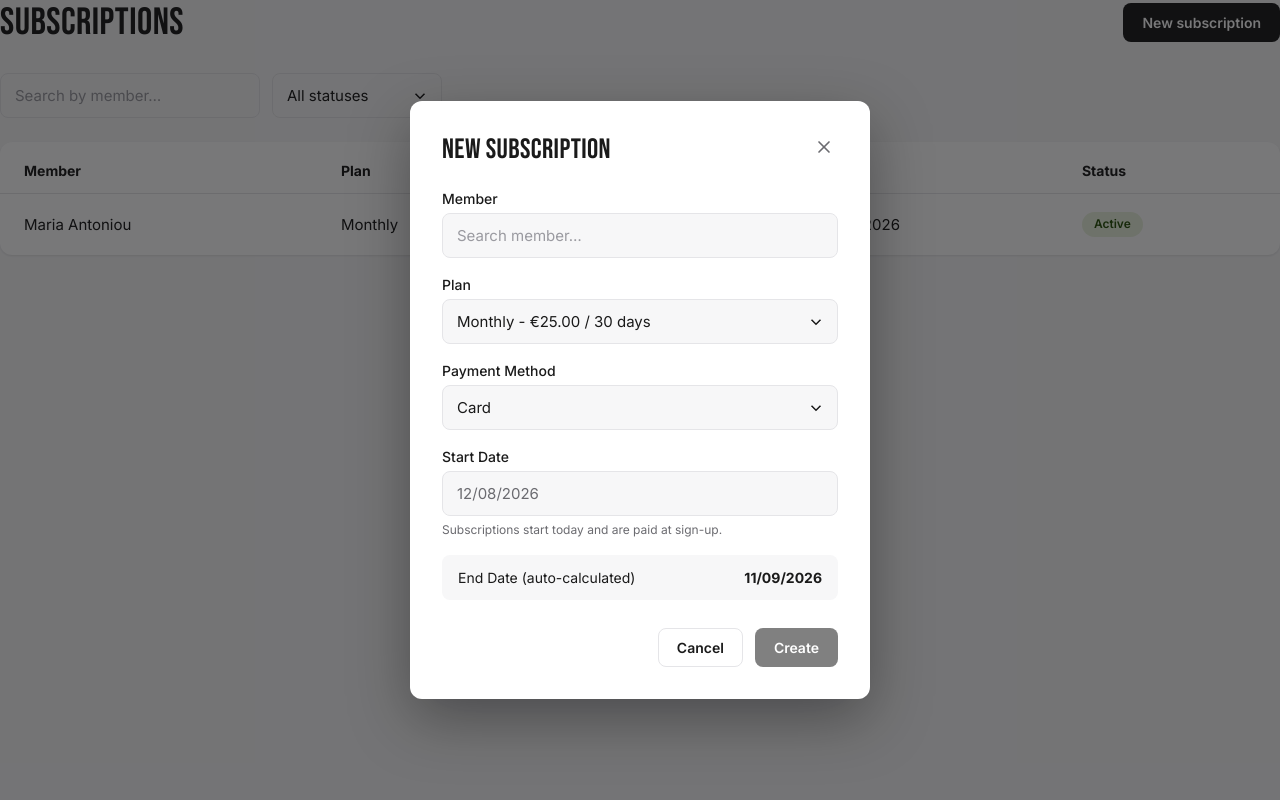
Test: New Subscription flow › creates a subscription for a member with no active plan
This screenshot has width=1280, height=800.
Step 1. Type "Nikos" into the dropdown labelled "Member" → x=640, y=236, box [442,213,838,258]
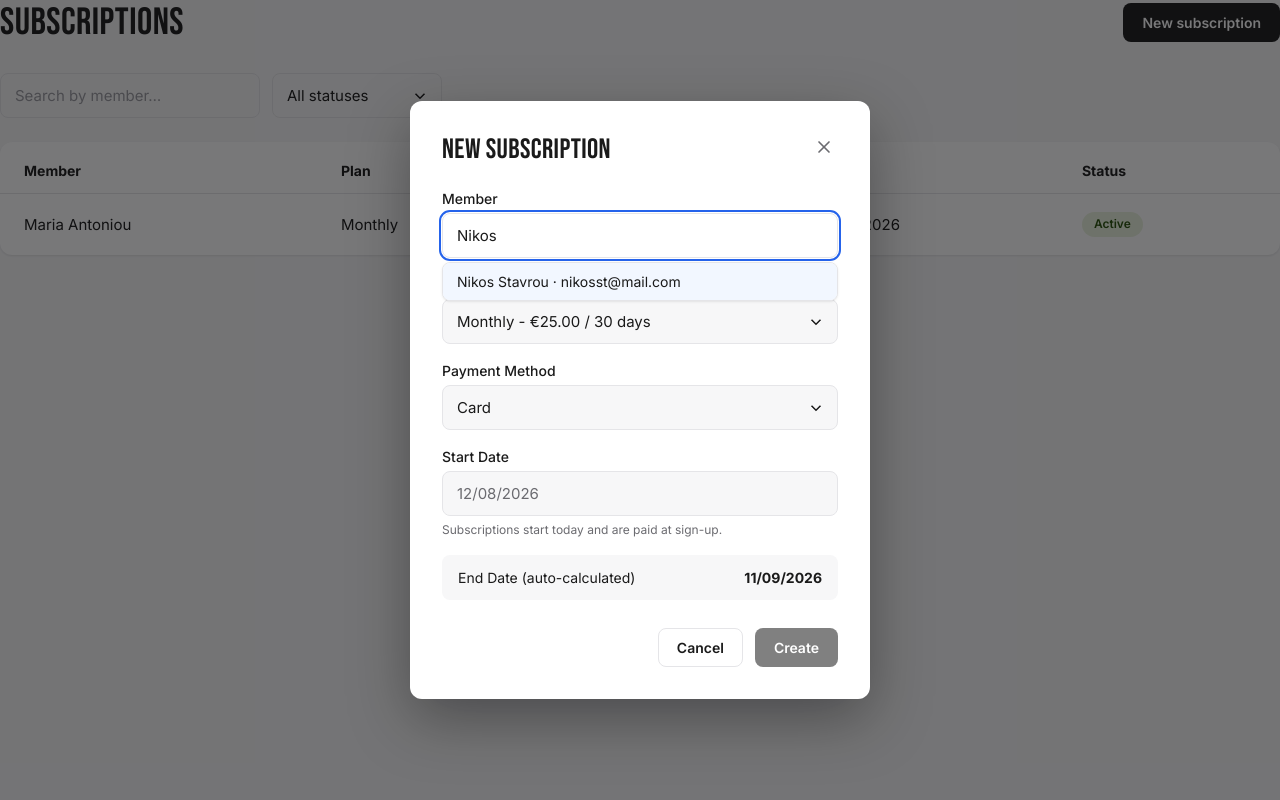
Step 2. Click the option "Nikos Stavrou · nikosst@mail.com" → x=640, y=282, box [443,263,837,300]
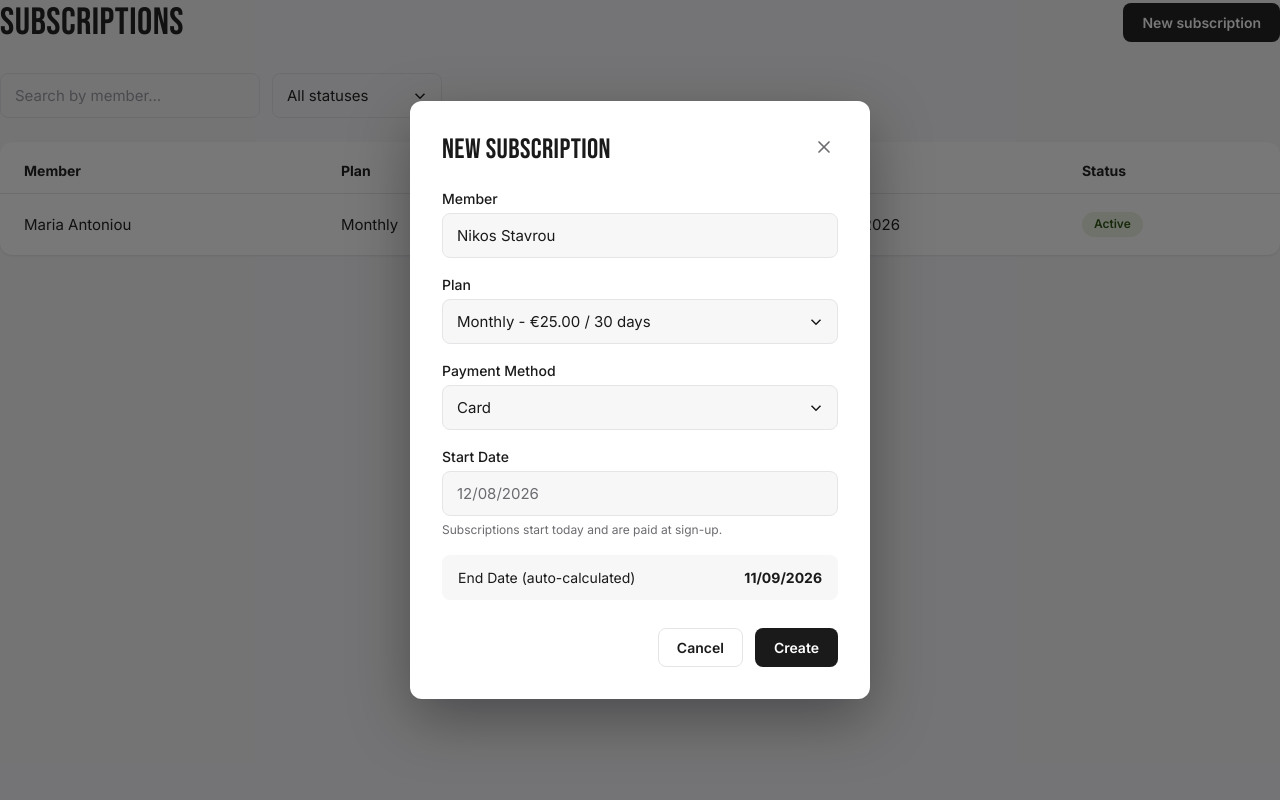
Step 3. Click the button "Create" → x=796, y=648, box [755,628,838,667]
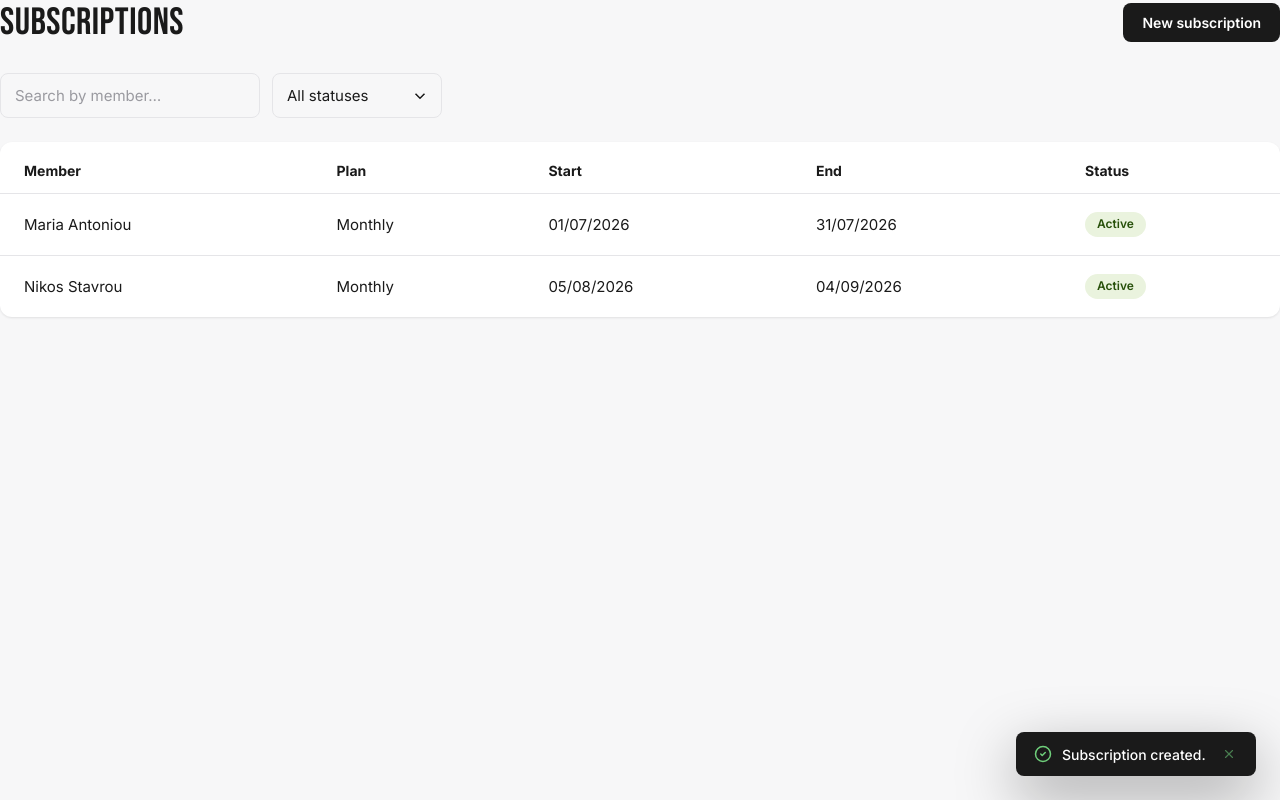
Result: the text "Subscription created." is shown at [1062,746,1206,762]
